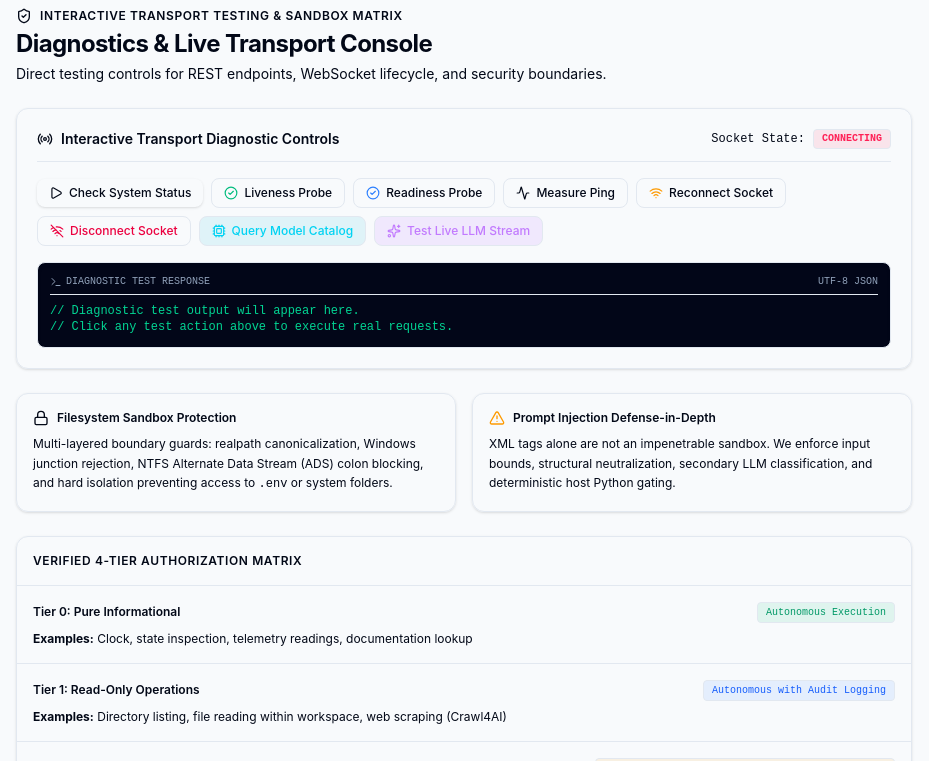
Scenario: Backend UI Integration Components › renders DiagnosticsView and executes Liveness Probe action
Click the button "Liveness Probe".
click(278, 193)  # box [211, 178, 345, 208]
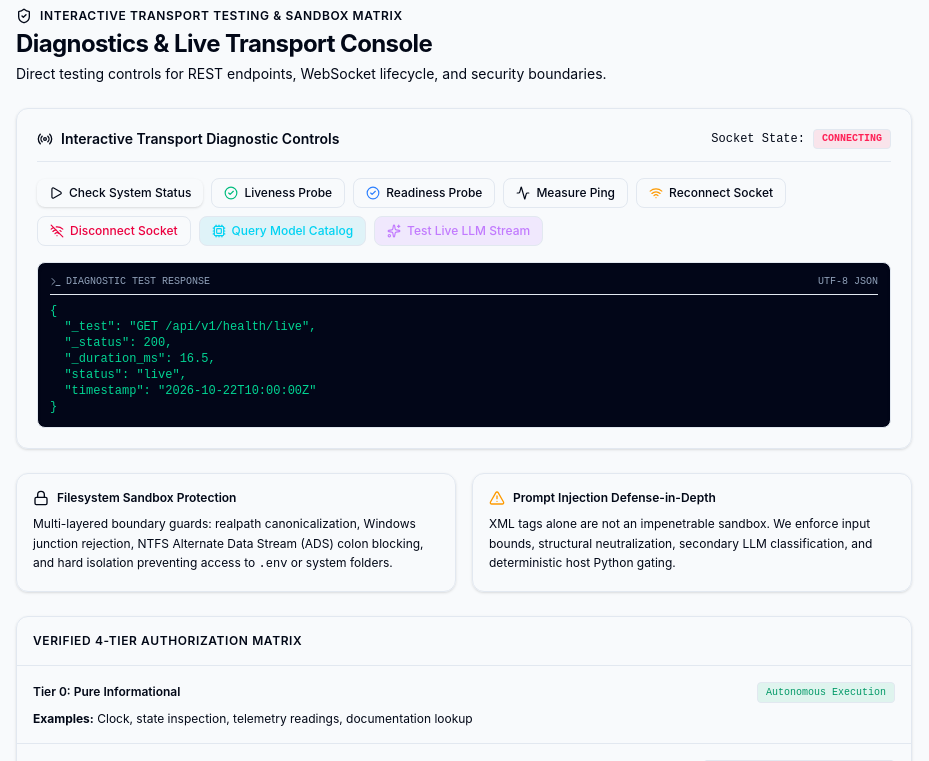
Now the text "GET /api/v1/health/live" is shown, box [50, 304, 316, 414]
